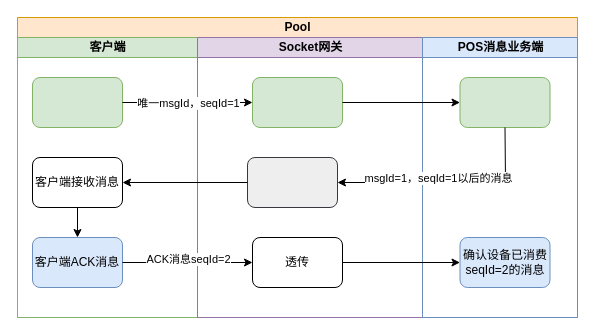
Image size: 595x335. Some labels were removed from this diagram. The centre of each missing label's shape, as x and y in pixels:
"客户端登陆" goes at (x=77, y=102).
"根据deviceId推送" goes at (x=292, y=182).
"缓存客户端信息" goes at (x=297, y=102).
"返回seqId以后的消息" goes at (x=504, y=102).
